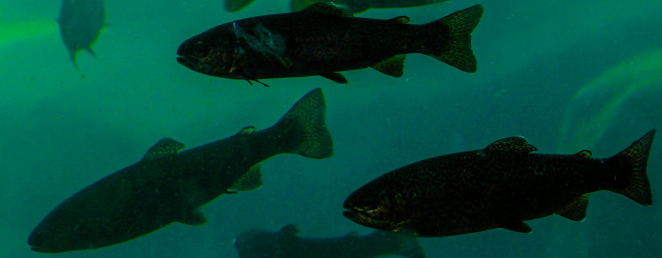fishLarge: (23, 87, 334, 255), (341, 129, 655, 239), (174, 1, 483, 88)
